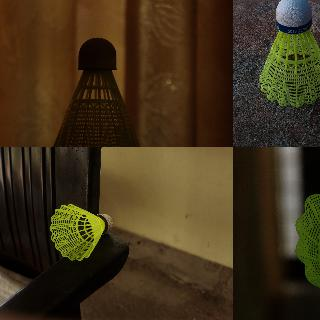shuttlecock: (51, 38, 141, 146), (259, 0, 319, 105), (49, 203, 112, 260), (295, 171, 319, 318)
